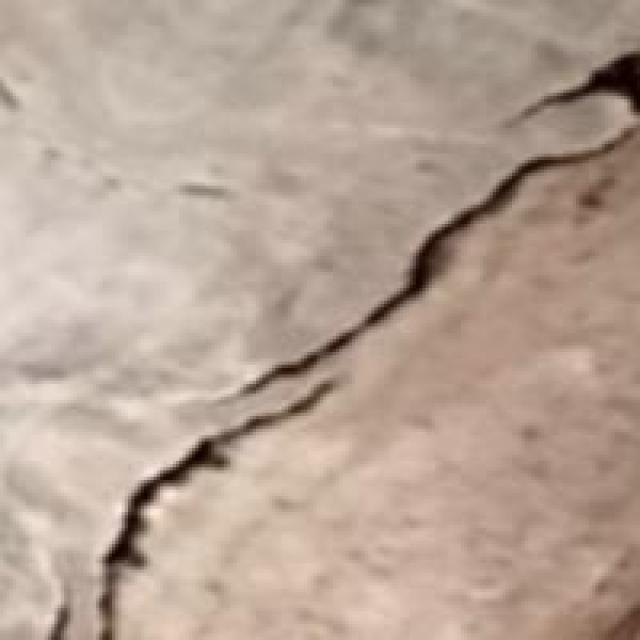crack: (58, 35, 636, 637)
